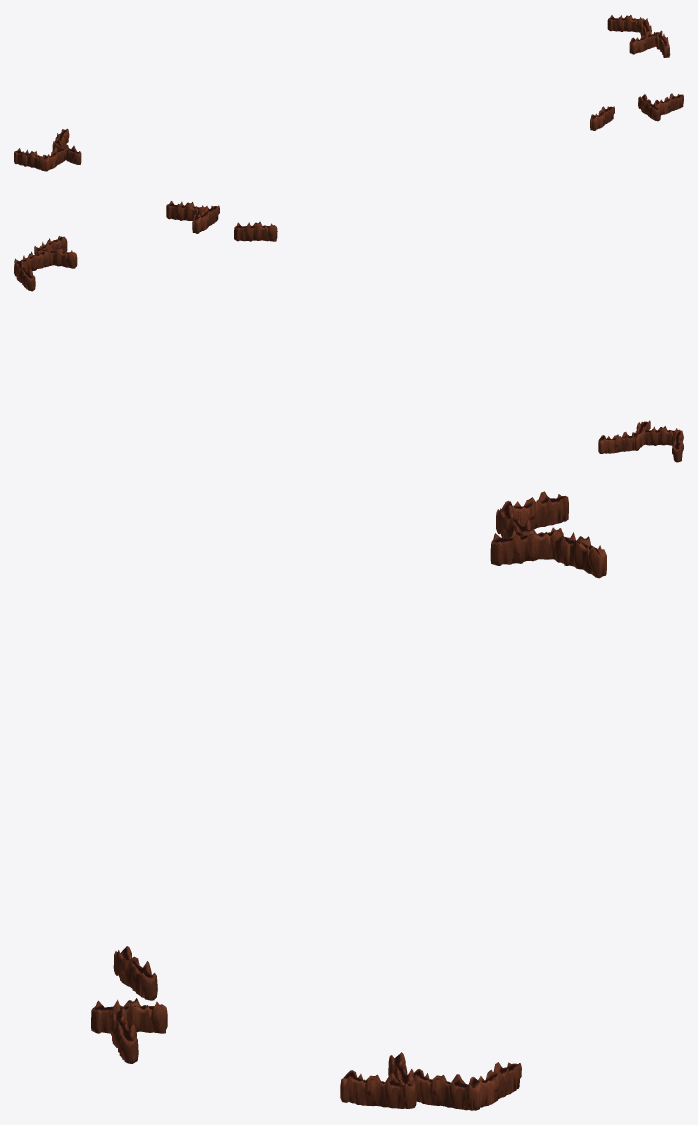
File: LV5Crack.fbx
3 views of the same model, one above another, from view 1: azimuth 30°, elevation 25°; view 2: azimuth 150°, elevation 25°; view 3: azimuth 270°, elevation 25° (orthographic). The views are drawn at different scales.
Parts seen in each view (by area): view 1: RockWalkway23; view 2: RockWalkway23; view 3: RockWalkway23.
Part boxes in pixels (left/top/right/bottom): RockWalkway23: left=14, top=15, right=683, bottom=171; RockWalkway23: left=14, top=201, right=683, bottom=462; RockWalkway23: left=91, top=491, right=606, bottom=1110.
Bounding box in the file's own units: 452 × 10.29 × 165.
